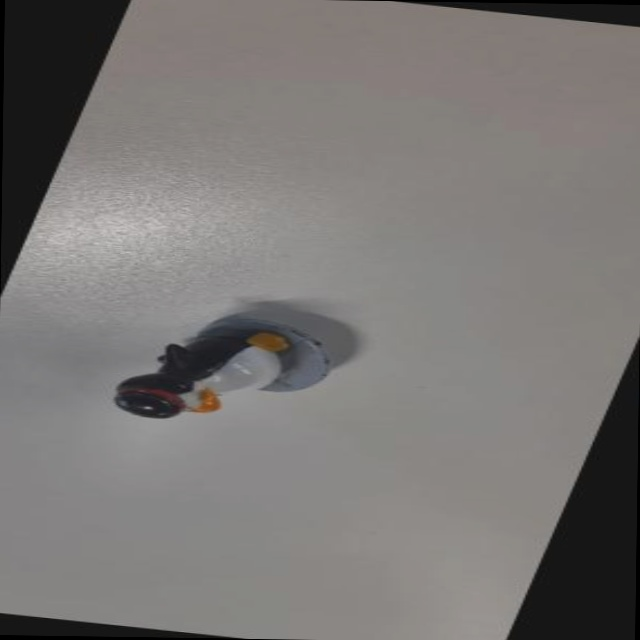Penguin: (98, 300, 378, 437)
